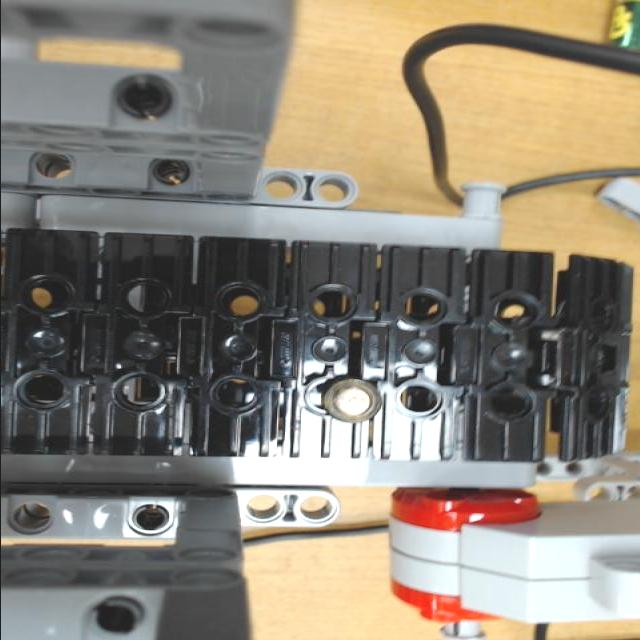COIN: (318, 375, 390, 424)
